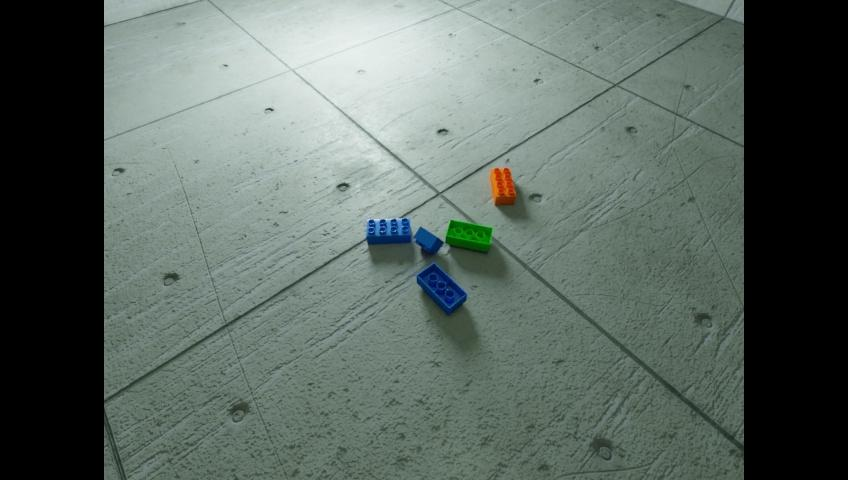2x2_blue: (413, 226, 443, 253)
4x2_blue: (416, 262, 466, 314), (367, 217, 410, 244)
4x2_green: (445, 219, 492, 252)
4x2_orange: (489, 167, 515, 204)
